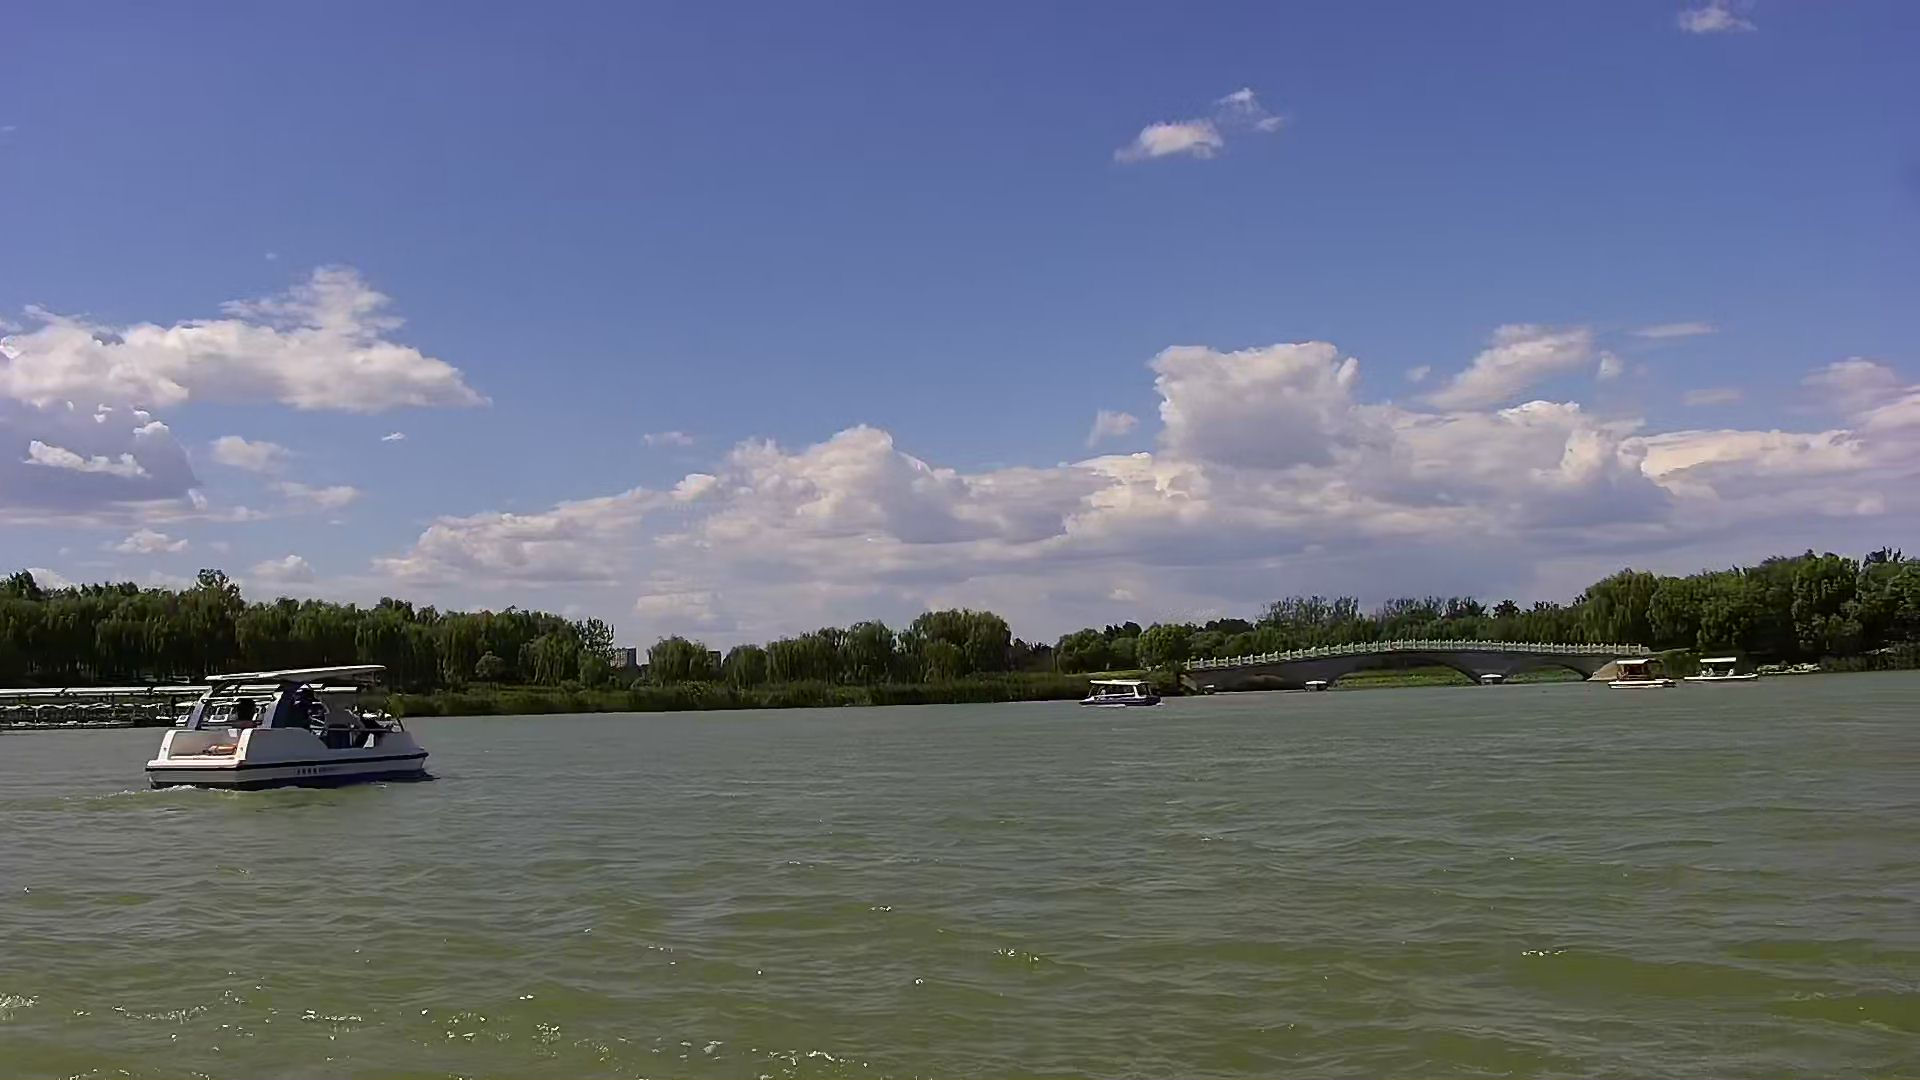boat: (149, 659, 446, 794), (1081, 671, 1163, 712), (1604, 658, 1677, 691), (1691, 651, 1763, 683)
bridge: (1175, 636, 1607, 687)
harbor: (1, 676, 185, 728)
